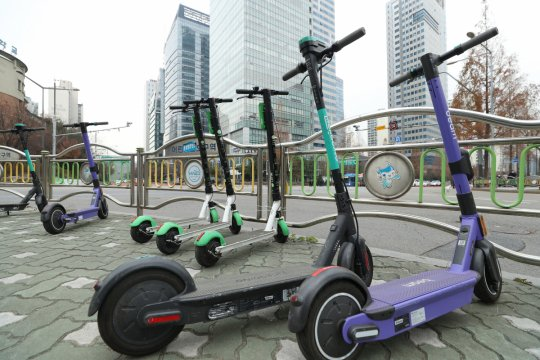scooter: (327, 30, 505, 360), (36, 120, 111, 235)
